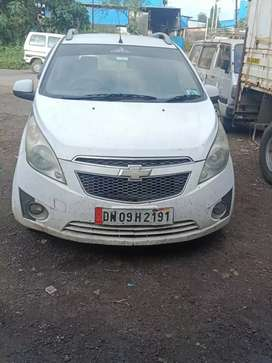DN09H2191: (95, 208, 174, 225)
